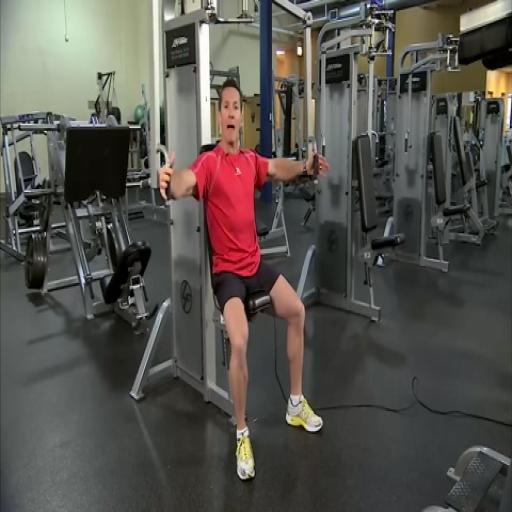exercise: (157, 78, 332, 484)
